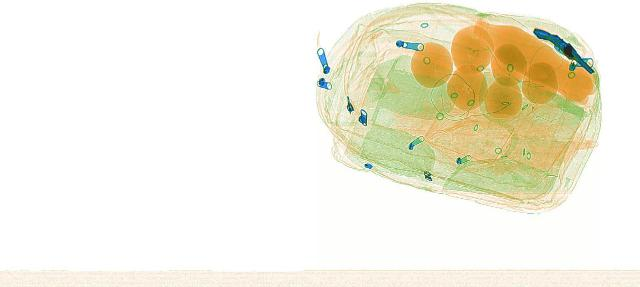Gun: (522, 26, 614, 74)
